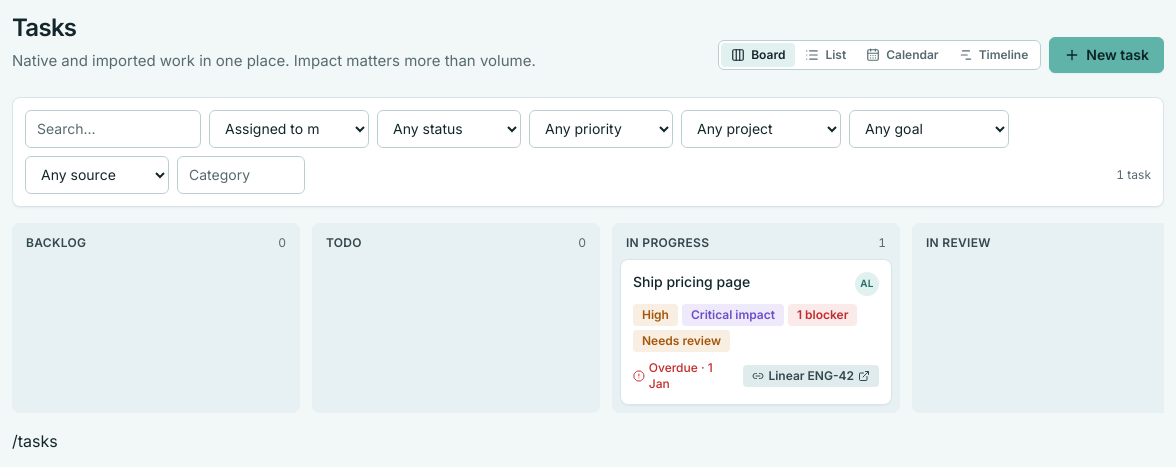
Test case: TasksPage › renders tasks on the board and applies filters through the URL and the API query
Expected: the text "Ship pricing page" is shown, [633,272,750,291]
Select "Blocked" in the dropdown named "Status": (449, 128) [377,110,521,148]
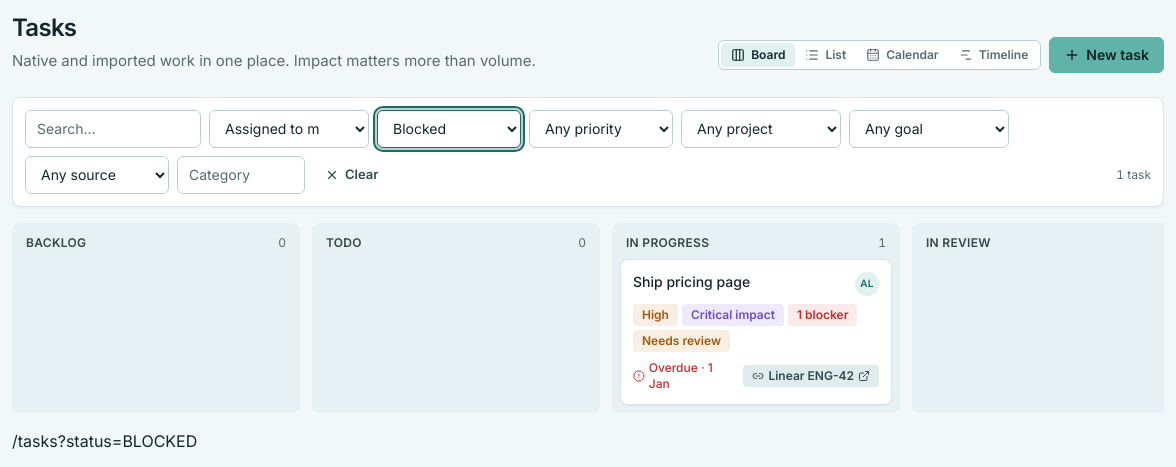
Now the text with test id "location" shows "status=BLOCKED", box [12,430,197,450]
